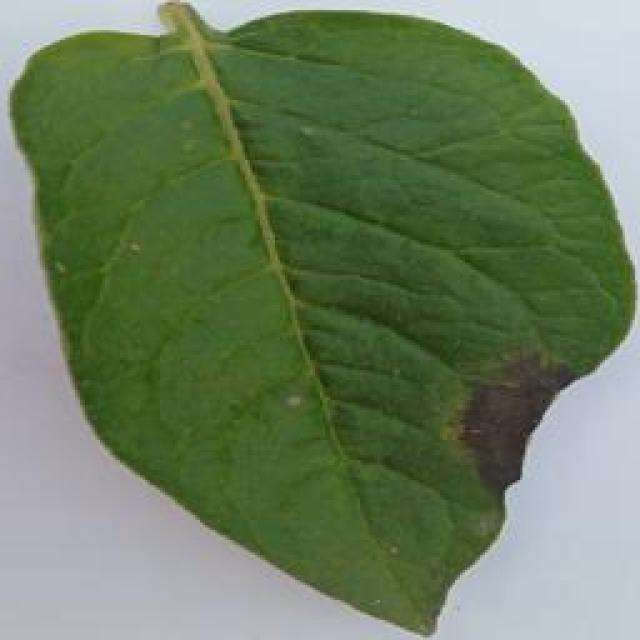Potato_Late_Blight: (9, 7, 624, 636)
